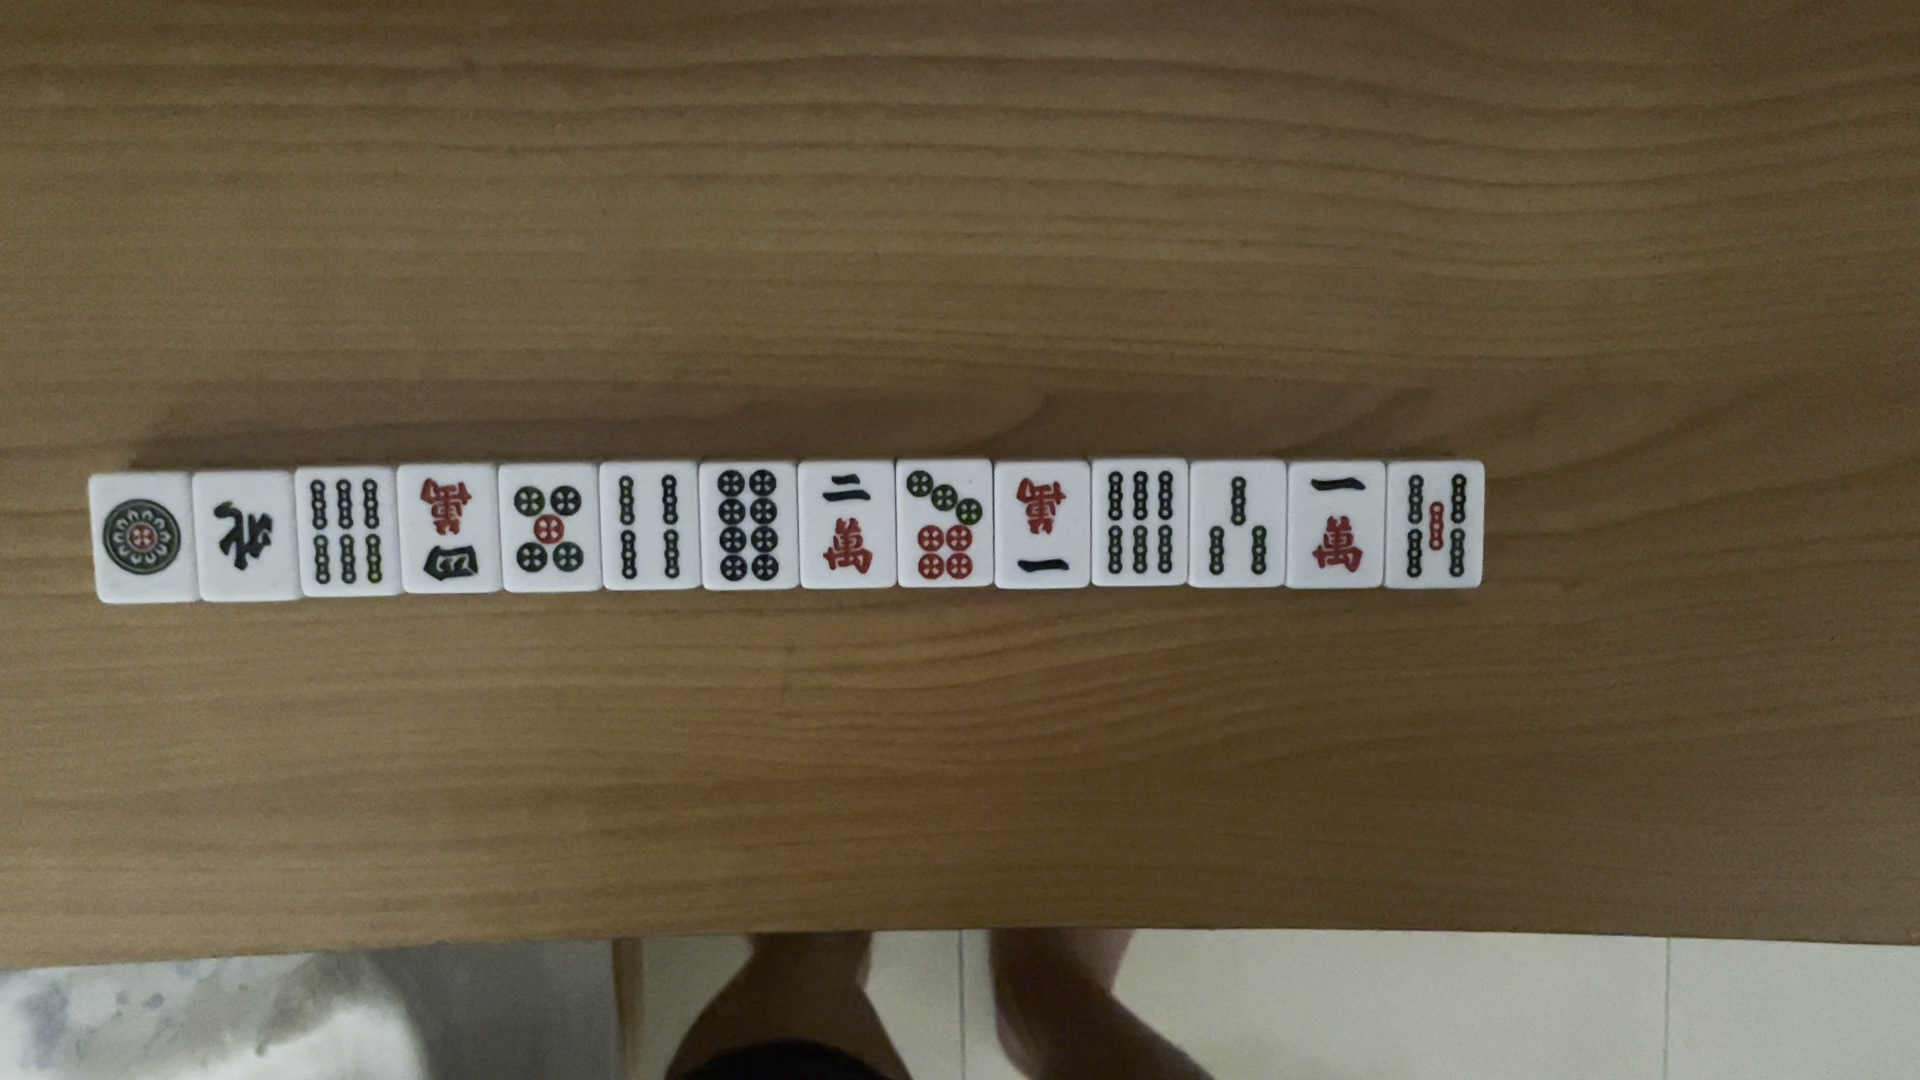b-3: (1199, 469, 1276, 582)
b-4: (613, 472, 690, 583)
b-5: (1402, 469, 1468, 585)
b-6: (302, 475, 389, 588), (1098, 465, 1180, 580)
c-1: (1291, 473, 1379, 579), (1004, 475, 1077, 583)
c-2: (816, 467, 881, 580)
c-4: (415, 476, 487, 580)
d-1: (98, 492, 183, 582)
d-5: (506, 479, 589, 591)
d-7: (905, 465, 986, 579)
d-8: (712, 469, 781, 585)
honors-north: (204, 489, 276, 574)
